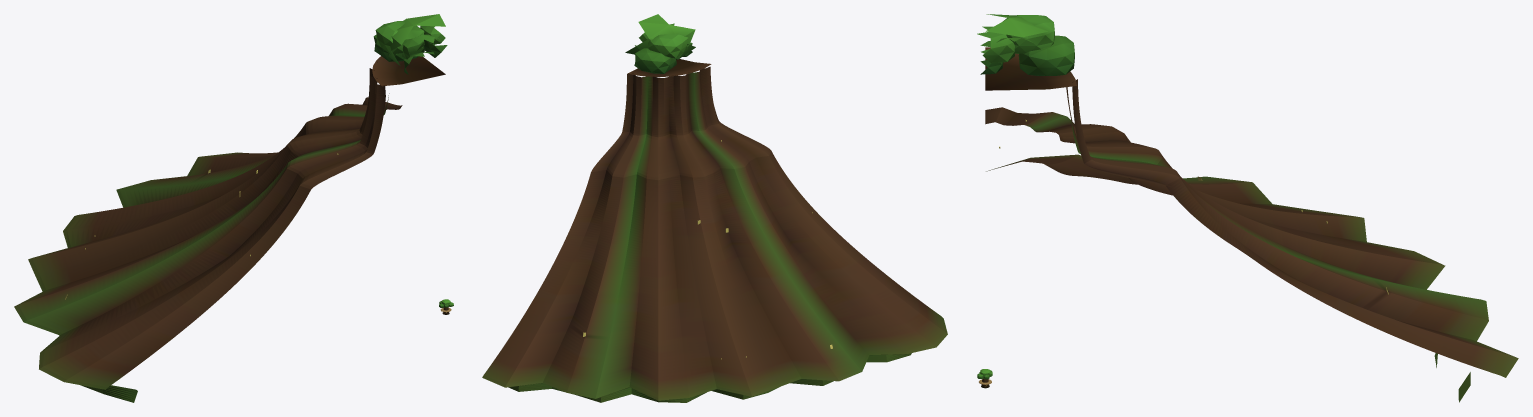
File: swamp-s4-CJKrcgow.glb
3 views of the same model, side by side, from view 1: azimuth 30°, elevation 25°; view 2: azimuth 150°, elevation 25°; view 3: azimuth 270°, elevation 25° (orthographic). The views are drawn at different scales.
Parts seen in each view (by area): view 1: sc_landmark_1; view 2: sc_landmark_1; view 3: sc_landmark_1.
Boxes of the visible parts, x1,y1,x2,y2 form: sc_landmark_1: [14, 14, 447, 402]; sc_landmark_1: [482, 14, 947, 402]; sc_landmark_1: [977, 14, 1518, 402].
Bounding box in the file's own units: 420 × 313 × 415.
